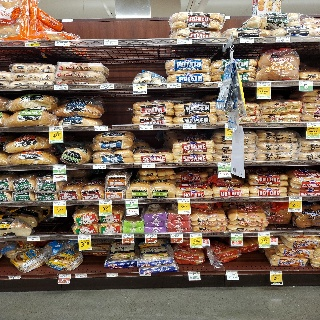All PRICE TAGS: (24, 41, 40, 47), (55, 40, 70, 46), (103, 40, 118, 46), (177, 39, 191, 45), (240, 37, 254, 43), (275, 37, 291, 42), (133, 83, 146, 89), (53, 85, 68, 90), (92, 164, 106, 169), (183, 124, 197, 129), (139, 125, 153, 130), (94, 126, 108, 131), (299, 81, 313, 86), (166, 83, 180, 88), (100, 84, 114, 89), (269, 270, 282, 275), (170, 233, 183, 238), (99, 200, 112, 205), (53, 201, 66, 206), (217, 162, 230, 167), (142, 163, 155, 168), (49, 126, 62, 131), (27, 236, 40, 241), (126, 199, 138, 204), (307, 122, 319, 127), (257, 82, 271, 86), (78, 235, 91, 239), (289, 197, 302, 201), (177, 198, 190, 202), (53, 165, 66, 169), (106, 273, 118, 277), (75, 274, 87, 278), (59, 274, 71, 278), (258, 232, 270, 236), (231, 233, 243, 237), (190, 233, 202, 237), (145, 234, 157, 238), (122, 234, 134, 238), (226, 271, 237, 275), (8, 276, 21, 279), (188, 272, 200, 275), (140, 273, 151, 276)
